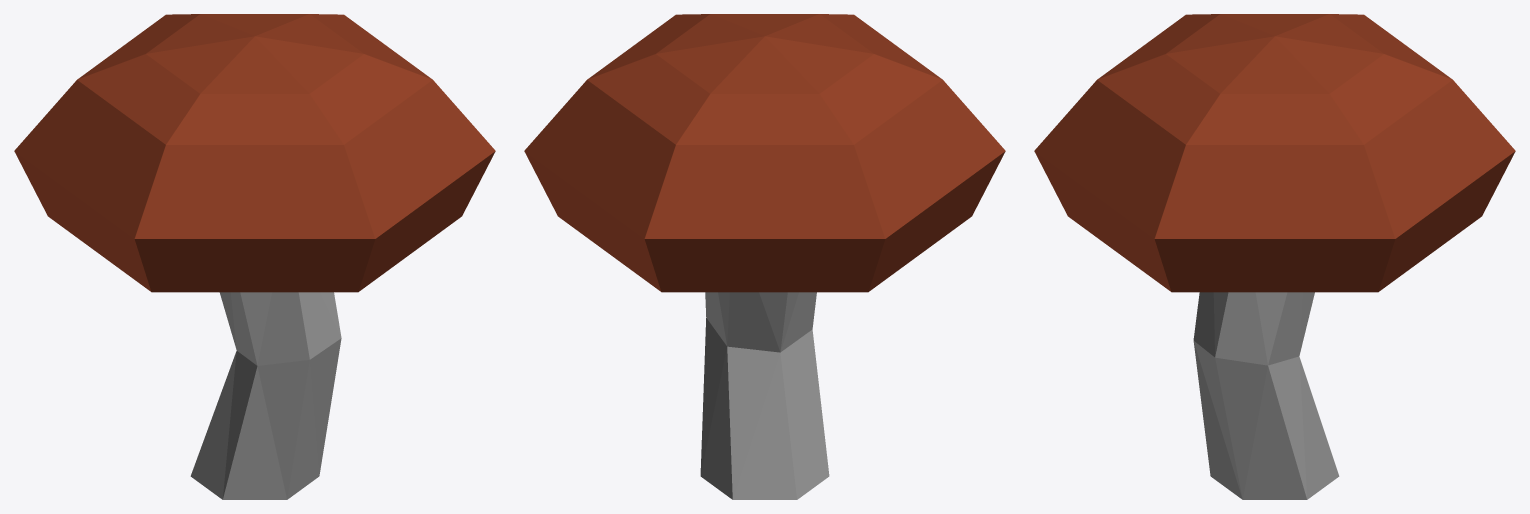
File: Mushroom00.fbx
3 renders of one model, left to right at view 1: azimuth 30°, elevation 25°; view 2: azimuth 150°, elevation 25°; view 3: azimuth 270°, elevation 25°, orthographic.
Parts seen in each view (by area): view 1: Mushroom00; view 2: Mushroom00; view 3: Mushroom00.
Part boxes in pixels (left/top/right/bottom): Mushroom00: left=14, top=14, right=495, bottom=499; Mushroom00: left=524, top=14, right=1005, bottom=499; Mushroom00: left=1034, top=14, right=1515, bottom=499.
Bounding box in the file's own units: 49.32 × 57.42 × 56.95.
